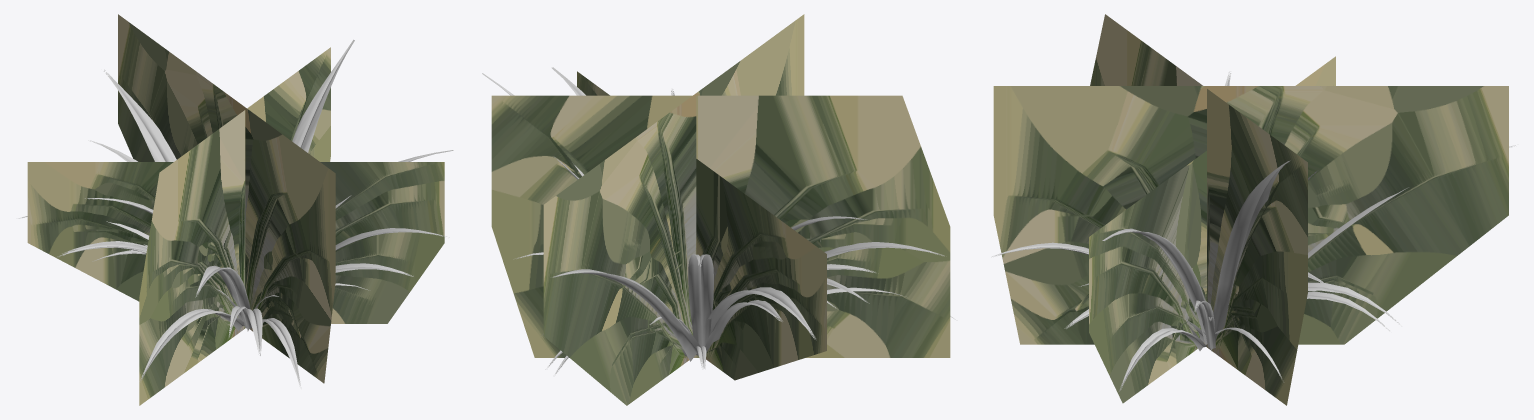
Rendered from PW_Grass_5.fbx.
3 views of the same model, side by side, from view 1: azimuth 30°, elevation 25°; view 2: azimuth 150°, elevation 25°; view 3: azimuth 270°, elevation 25° (orthographic). The views are drawn at different scales.
Parts seen in each view (by area): view 1: Billboard, LOD0; view 2: Billboard, LOD0; view 3: Billboard, LOD0.
Boxes of the visible parts, box(x1,y1,x2,y2) form: Billboard: box(27, 14, 444, 405); LOD0: box(18, 39, 453, 388); Billboard: box(491, 14, 950, 405); LOD0: box(482, 67, 957, 374); Billboard: box(993, 14, 1508, 405); LOD0: box(991, 71, 1515, 391).
Size of what is drawn, in the model's own units: 19.14 by 11.43 by 20.41.
